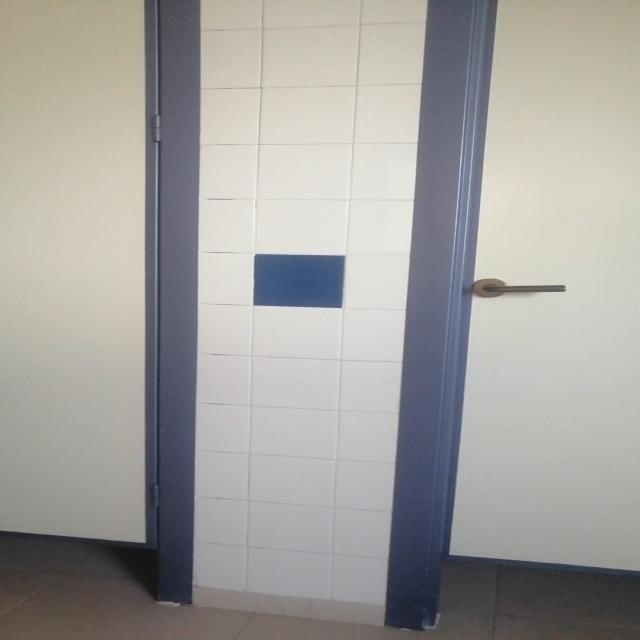door_handle: (480, 282, 568, 295)
